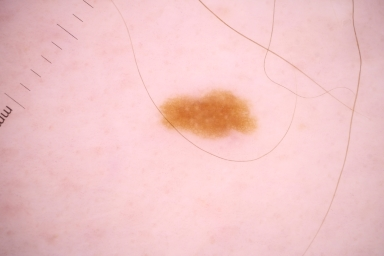melanoma: (156, 91, 258, 135)
